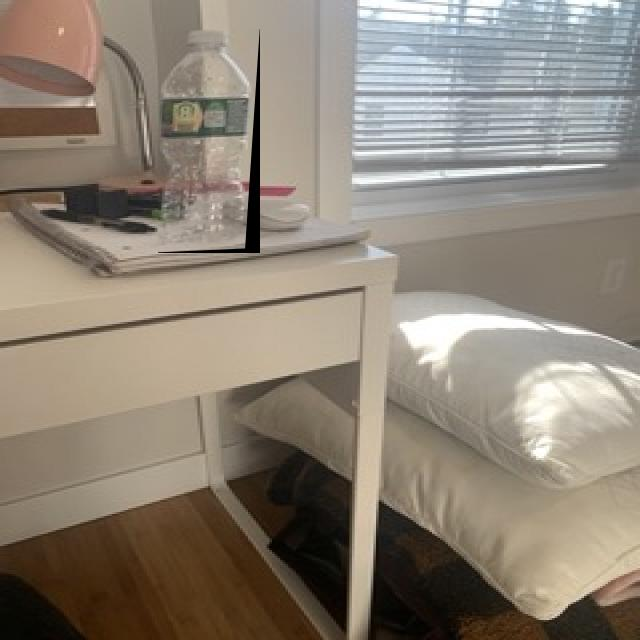water_bottle: (158, 29, 260, 253)
